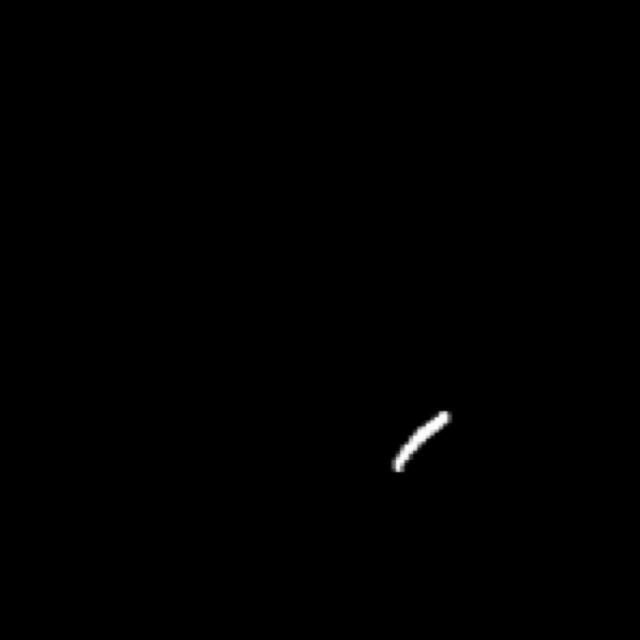one -1-: (370, 398, 473, 494)
